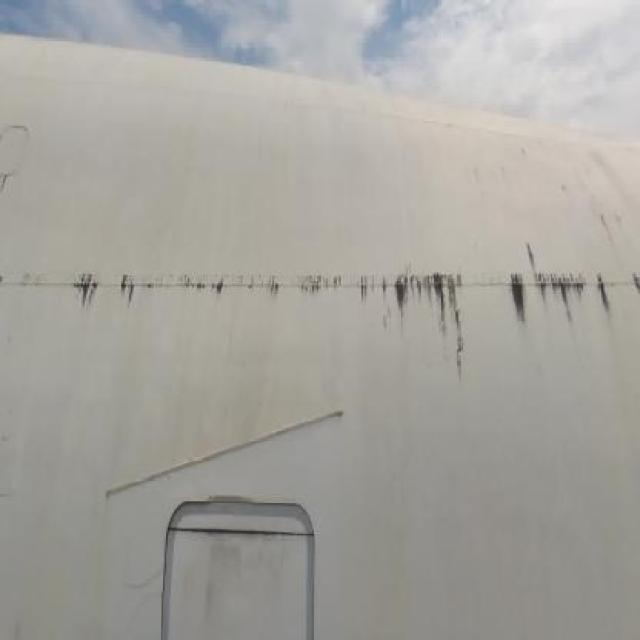Rust: (63, 232, 640, 359)
Scartch: (200, 532, 298, 617)
